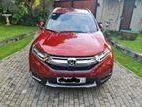car: (28, 7, 114, 89)
